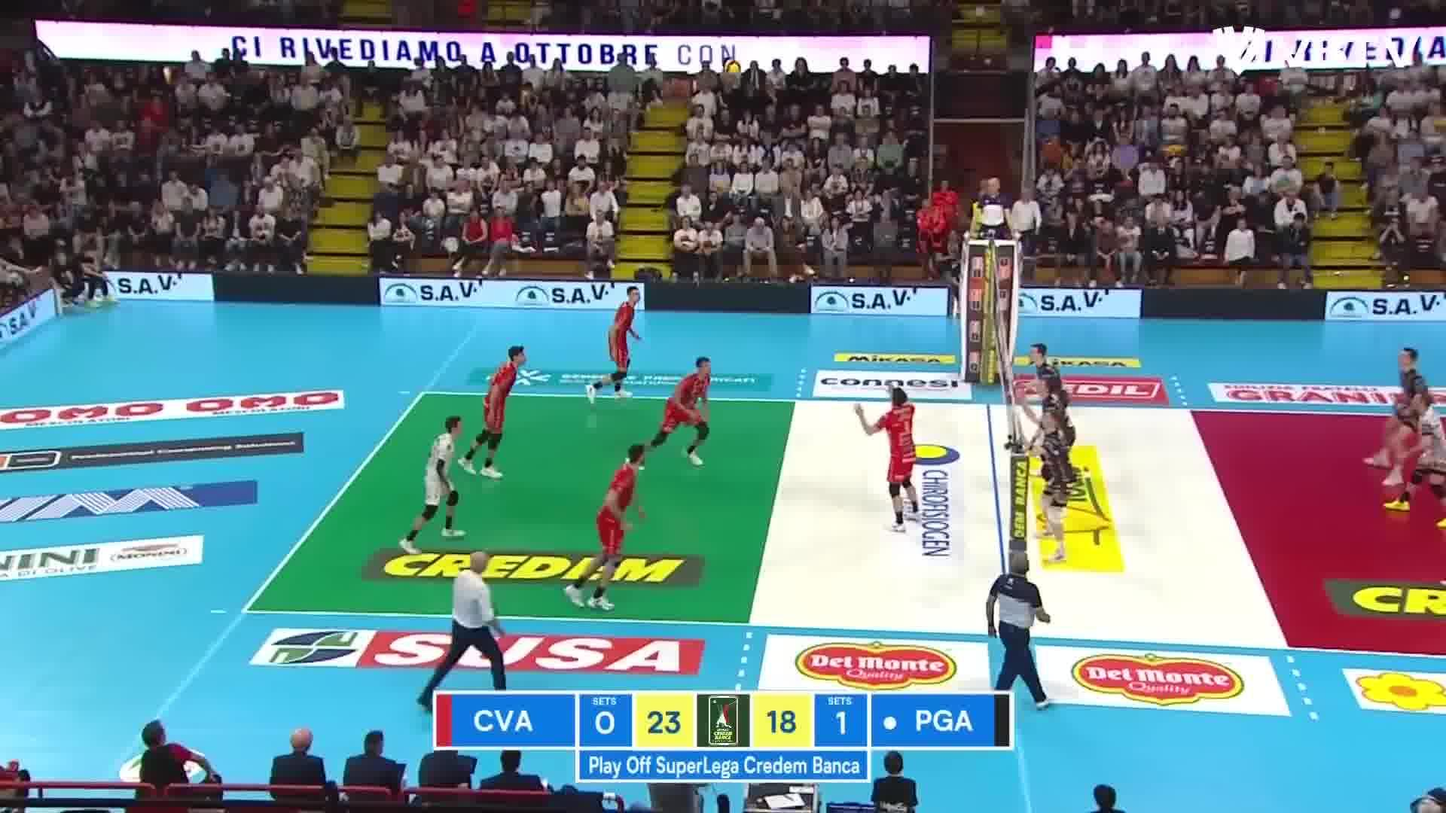balls: (719, 59, 743, 77)
